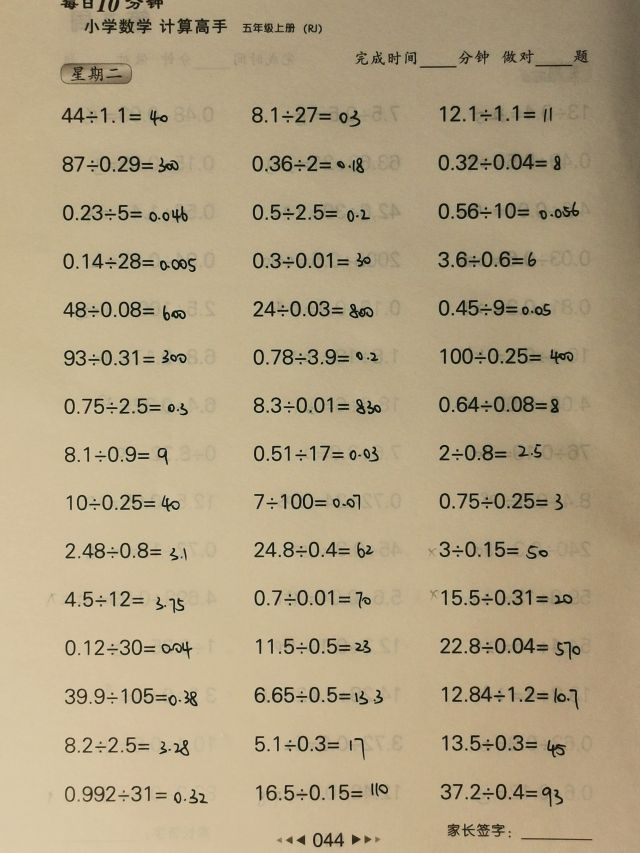equation: (437, 680, 583, 710), (435, 632, 583, 660), (60, 780, 211, 807), (438, 728, 570, 758), (434, 198, 583, 224), (58, 247, 199, 274), (61, 682, 201, 709), (436, 779, 565, 808), (253, 779, 396, 805), (437, 343, 578, 369), (60, 585, 189, 613), (250, 681, 386, 707), (249, 392, 384, 418), (59, 296, 189, 323), (61, 634, 195, 660), (438, 585, 577, 610), (58, 199, 191, 225), (434, 390, 562, 417), (434, 487, 566, 513), (60, 393, 191, 419), (434, 149, 565, 175), (250, 733, 371, 761), (61, 537, 191, 563), (249, 295, 377, 321), (60, 733, 193, 758), (250, 441, 383, 466), (250, 344, 383, 369), (247, 199, 373, 225), (60, 344, 190, 369), (250, 584, 374, 610), (58, 150, 182, 176), (54, 102, 172, 129), (251, 537, 378, 562), (433, 294, 555, 320), (247, 101, 364, 128), (249, 248, 375, 273), (62, 489, 183, 515), (247, 150, 368, 176), (435, 100, 556, 126), (253, 634, 375, 659), (435, 536, 551, 562), (60, 441, 172, 467), (251, 489, 365, 514), (434, 246, 541, 272), (434, 439, 545, 464)
